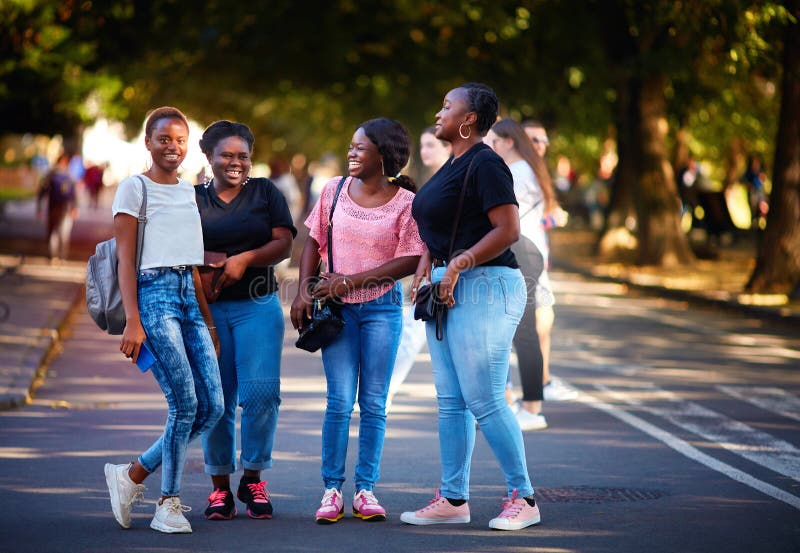Person: (403, 78, 544, 540), (88, 100, 217, 536), (297, 113, 406, 530), (192, 117, 289, 528)
